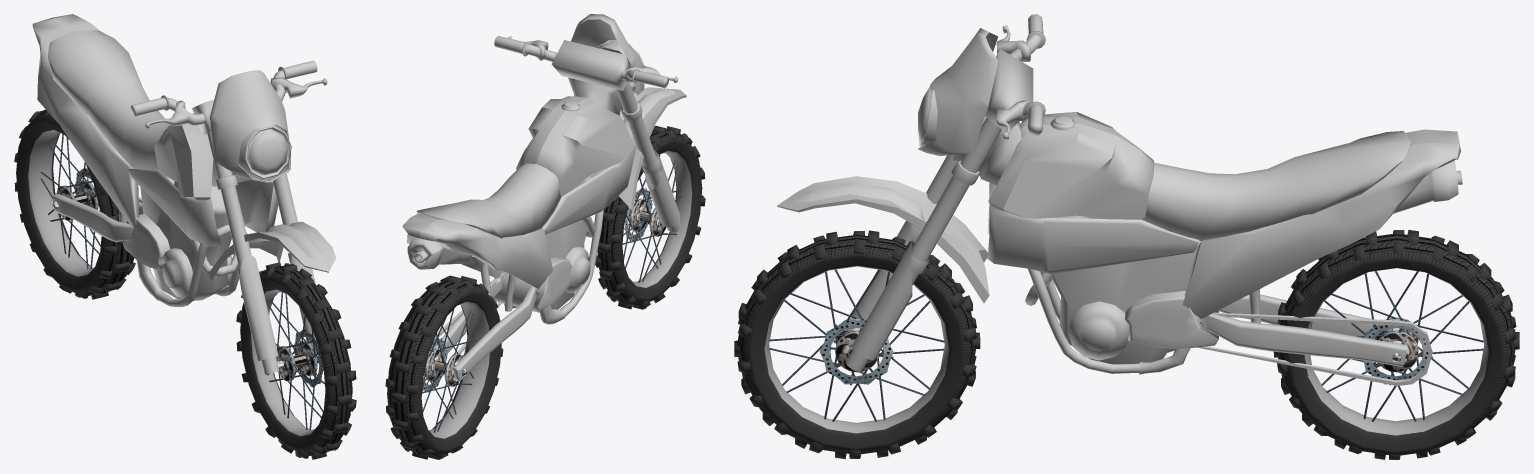
The model's file is bike04.fbx.
The picture shows the model from 3 angles, left to right: view 1: azimuth 30°, elevation 25°; view 2: azimuth 150°, elevation 25°; view 3: azimuth 270°, elevation 25°; orthographic projection. The views are drawn at different scales.
Visible parts, largest first — view 1: bike04_polySurface595, Tyre, Tyre1, polySurface579, polySurface547, polySurface566, polySurface564, polySurface568, polySurface594, polySurface545, polySurface543, polySurface565 (+7 smaller); view 2: bike04_polySurface595, Tyre1, Tyre, polySurface579, polySurface559, polySurface568, polySurface594, polySurface564, polySurface547, polySurface545, polySurface566, polySurface552 (+5 smaller); view 3: bike04_polySurface595, Tyre1, Tyre, polySurface579, polySurface551, polySurface569, polySurface550, polySurface549, polySurface567, polySurface565, polySurface585, polySurface546 (+6 smaller).
Part boxes in pixels (bbox=[...]): bike04_polySurface595: bbox=[32, 14, 336, 280]; Tyre: bbox=[236, 262, 356, 459]; Tyre1: bbox=[14, 109, 139, 299]; polySurface579: bbox=[48, 30, 169, 169]; polySurface547: bbox=[140, 180, 226, 300]; polySurface566: bbox=[239, 253, 278, 360]; polySurface564: bbox=[215, 175, 279, 374]; polySurface568: bbox=[52, 194, 132, 242]; polySurface594: bbox=[122, 213, 169, 270]; polySurface545: bbox=[136, 225, 229, 306]; polySurface543: bbox=[162, 248, 192, 297]; polySurface565: bbox=[273, 171, 318, 361]; bike04_polySurface595: bbox=[402, 14, 686, 311]; Tyre1: bbox=[385, 275, 503, 459]; Tyre: bbox=[595, 126, 705, 309]; polySurface579: bbox=[416, 163, 561, 238]; polySurface559: bbox=[551, 40, 629, 90]; polySurface568: bbox=[453, 286, 536, 381]; polySurface594: bbox=[512, 257, 571, 311]; polySurface564: bbox=[621, 101, 681, 232]; polySurface547: bbox=[536, 176, 591, 312]; polySurface545: bbox=[536, 210, 603, 324]; polySurface566: bbox=[645, 149, 680, 226]; polySurface552: bbox=[573, 79, 622, 115]; bike04_polySurface595: bbox=[777, 28, 1462, 323]; Tyre1: bbox=[1273, 229, 1519, 459]; Tyre: bbox=[734, 230, 980, 459]; polySurface579: bbox=[1141, 131, 1411, 239]; polySurface551: bbox=[1050, 215, 1198, 364]; polySurface569: bbox=[1206, 314, 1407, 366]; polySurface550: bbox=[1125, 291, 1218, 349]; polySurface549: bbox=[1068, 301, 1129, 360]; polySurface567: bbox=[851, 240, 912, 360]; polySurface565: bbox=[845, 159, 980, 371]; polySurface585: bbox=[1194, 312, 1432, 385]; polySurface546: bbox=[1028, 268, 1203, 374].
Size of the model in its own units: 9.38 by 16.95 by 28.56.
